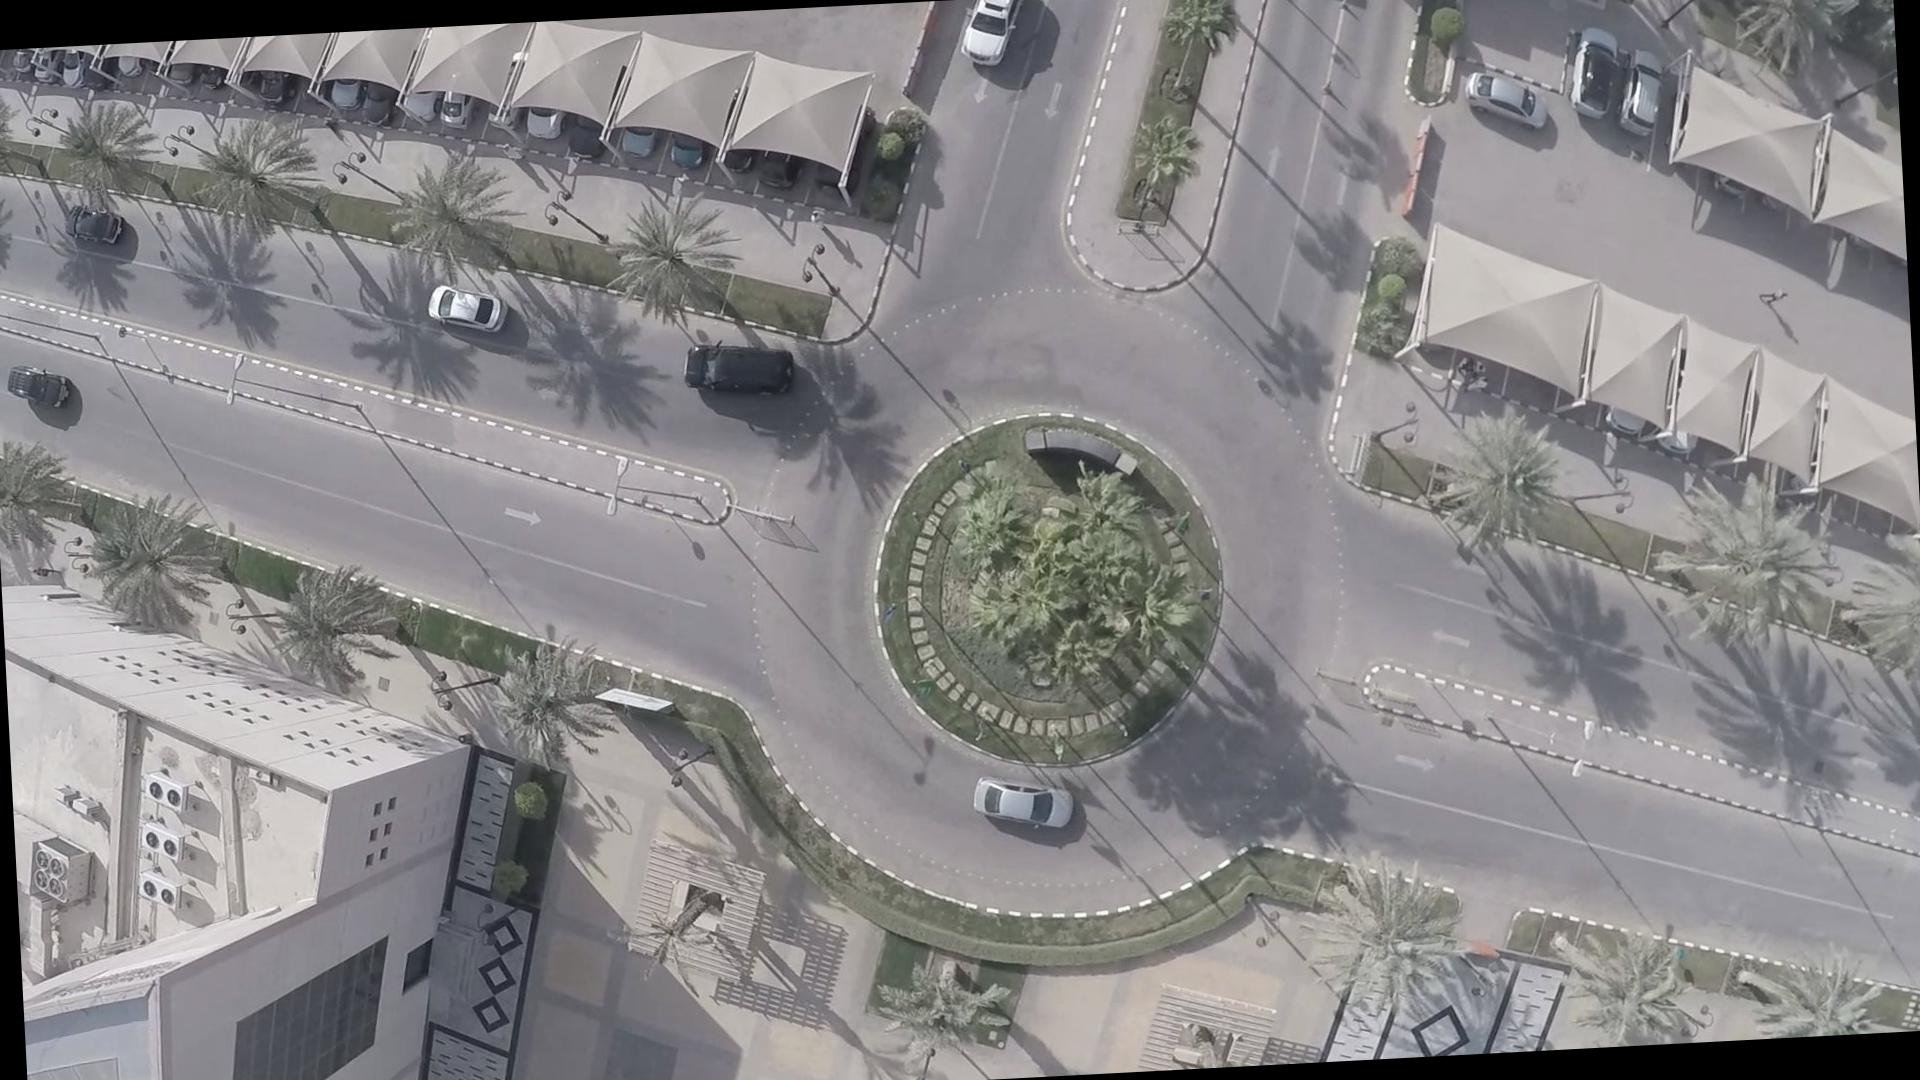vehicle: (679, 338, 815, 405), (957, 778, 1088, 835), (407, 272, 517, 339), (46, 195, 135, 249), (953, 0, 1018, 73), (4, 365, 84, 418)
